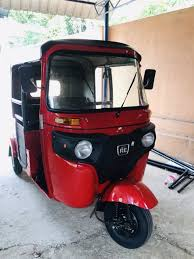tuk tuk: (6, 39, 161, 252)
